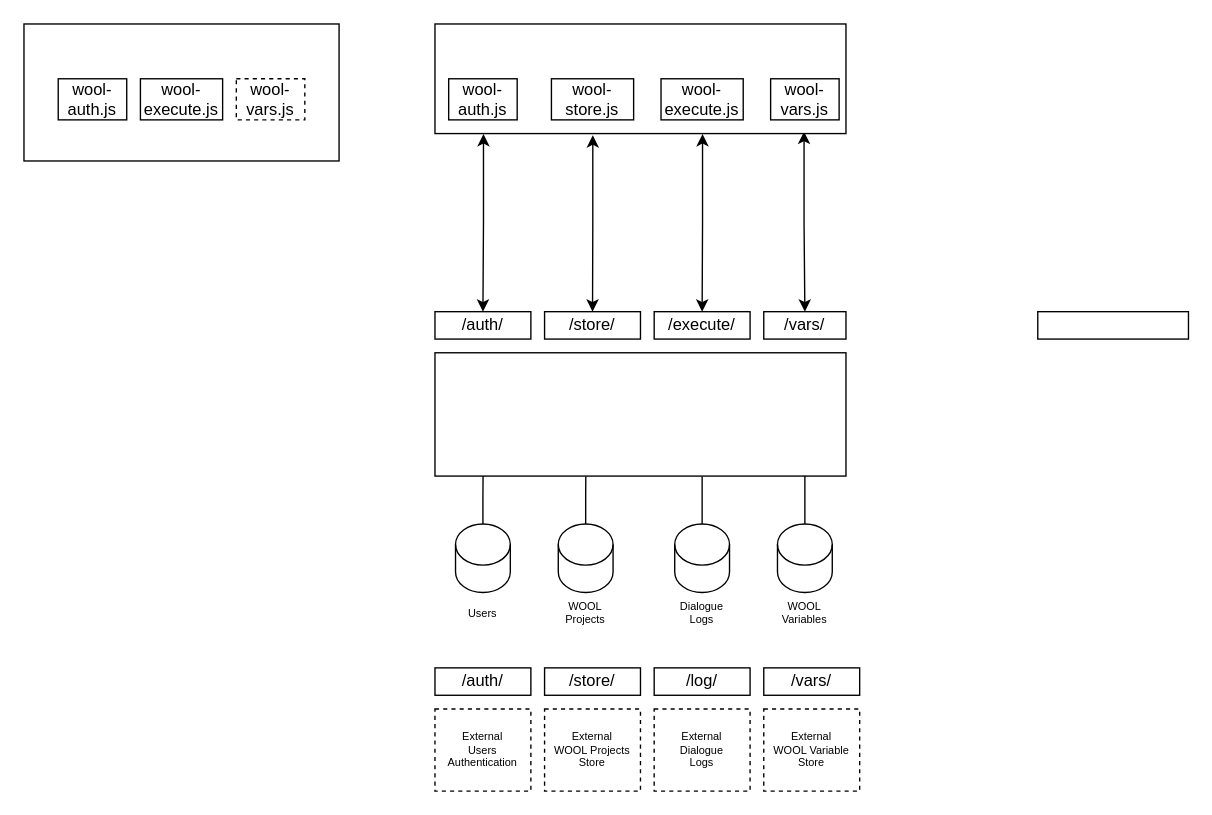
Image size: 1212x815. Some labels were removed from this diagram. Each missing label, with the box of its shape:
/retrieve-logs/: (1036, 310, 1188, 339)
WOOL Editor: (434, 23, 846, 134)
WOOL Web Client: (23, 23, 339, 161)
WOOL Web Service: (434, 351, 846, 476)
